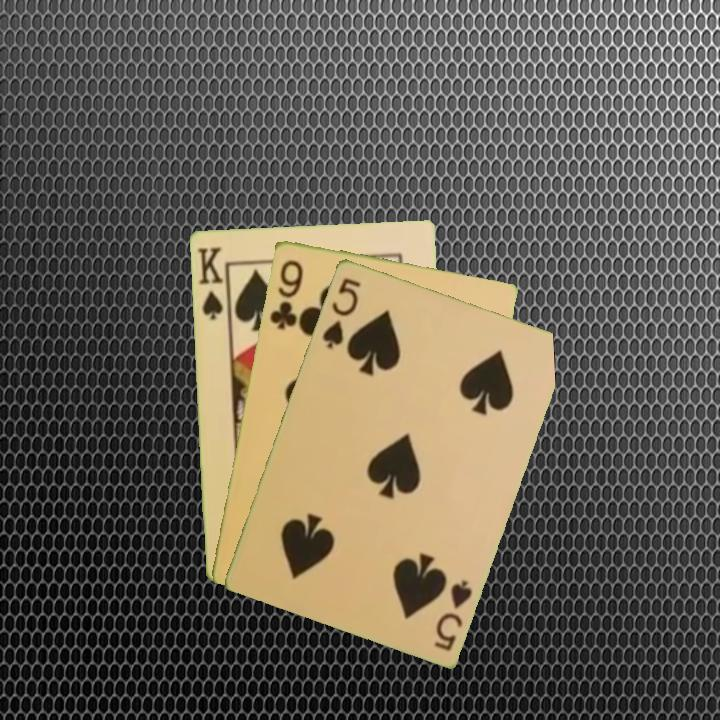5s: (430, 576, 475, 654), (318, 274, 363, 351)
9c: (265, 256, 306, 333)
Ks: (193, 243, 230, 322)
